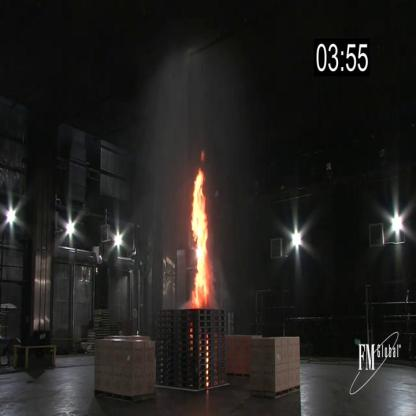fire: (190, 163, 213, 315)
